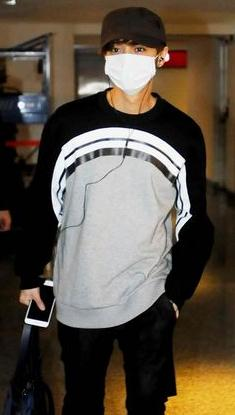yes_mask: (96, 5, 175, 95)
